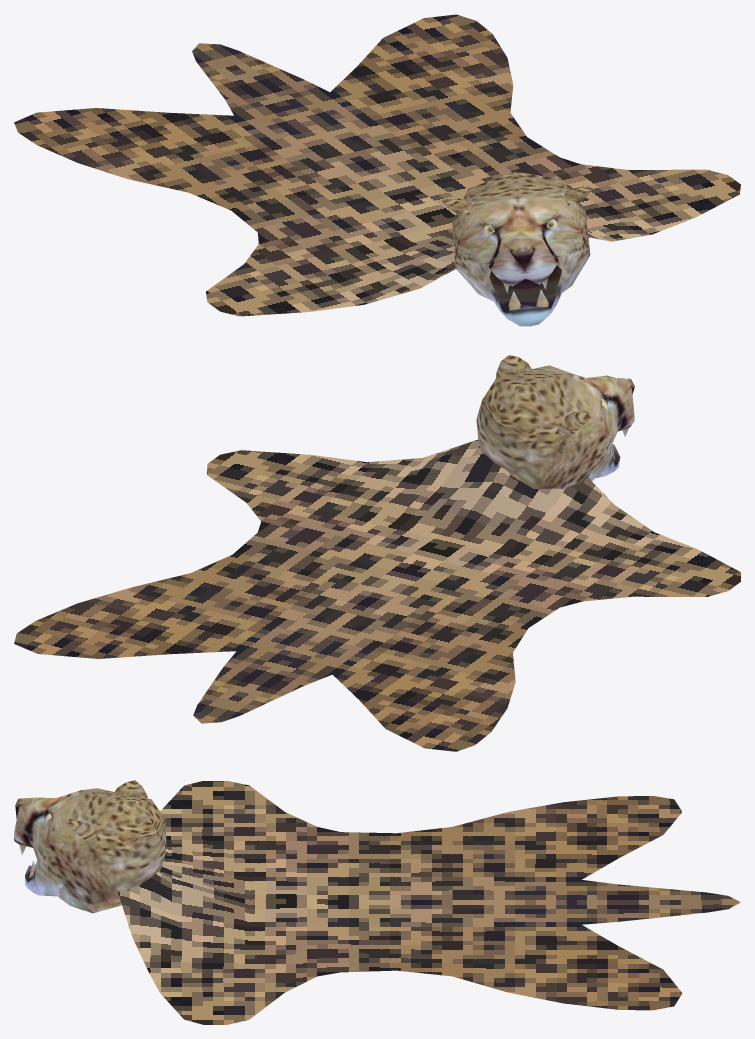
Rendered from o-tora1.glb.
3 views of the same model, one above another, from view 1: azimuth 30°, elevation 25°; view 2: azimuth 150°, elevation 25°; view 3: azimuth 270°, elevation 25° (orthographic). The views are drawn at different scales.
Parts seen in each view (by area): view 1: o_tora1; view 2: o_tora1; view 3: o_tora1.
Part boxes in pixels (<box>): o_tora1: <box>14,14,740,326</box>; o_tora1: <box>14,355,740,751</box>; o_tora1: <box>14,780,740,1024</box>.
Bounding box in the file's own units: 424 × 85 × 534.
2 materials, 2 textured.
